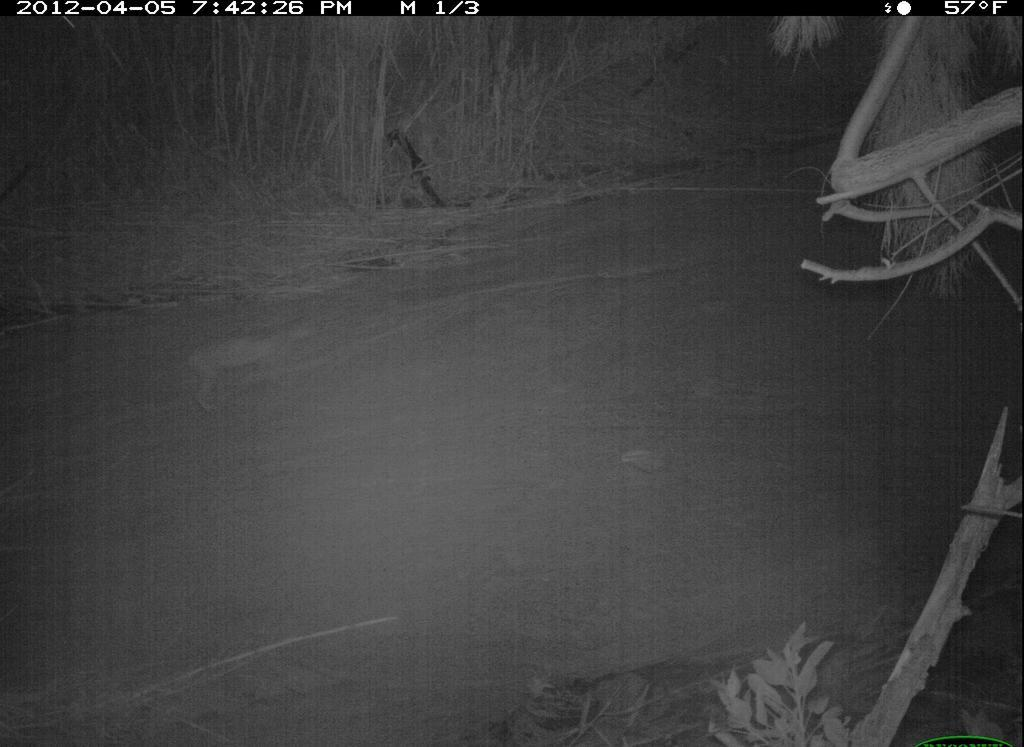bobcat: (182, 312, 329, 422)
